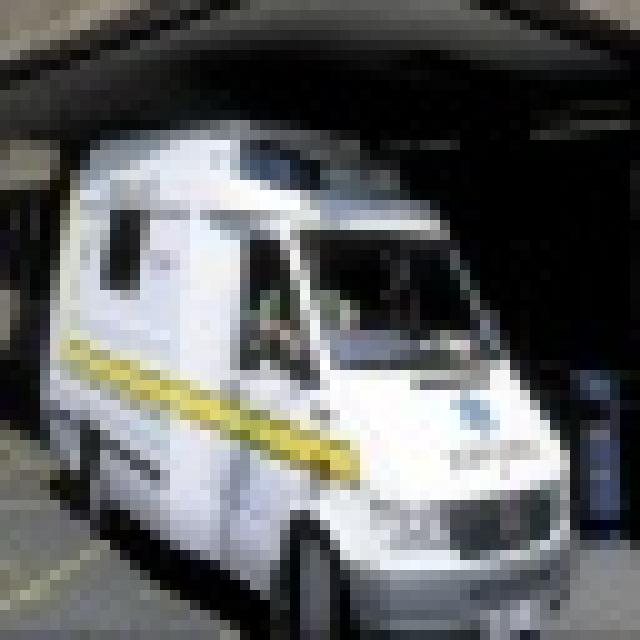Ambulance: (30, 110, 570, 630)
